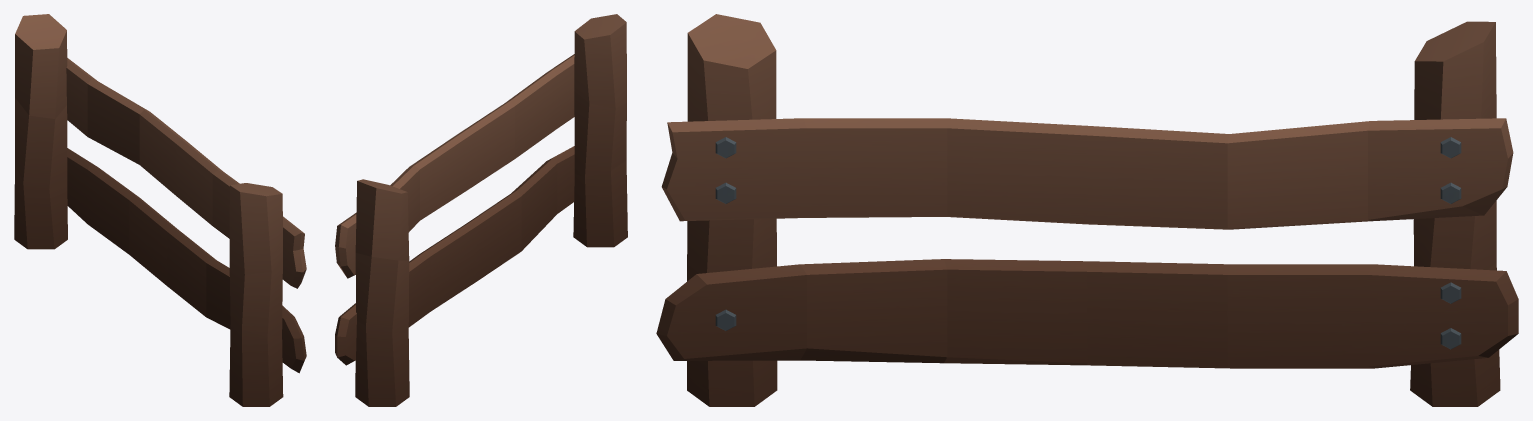
Rendered from płot1.fbx.
The picture shows the model from 3 angles, left to right: view 1: azimuth 30°, elevation 25°; view 2: azimuth 150°, elevation 25°; view 3: azimuth 270°, elevation 25°; orthographic projection. The views are drawn at different scales.
Parts seen in each view (by area): view 1: płot1; view 2: płot1; view 3: płot1.
Part boxes in pixels (left/top/right/bottom): płot1: left=14, top=14, right=306, bottom=406; płot1: left=335, top=14, right=627, bottom=406; płot1: left=656, top=14, right=1518, bottom=406.
Size of the model in its own units: 34 by 110 by 237.
